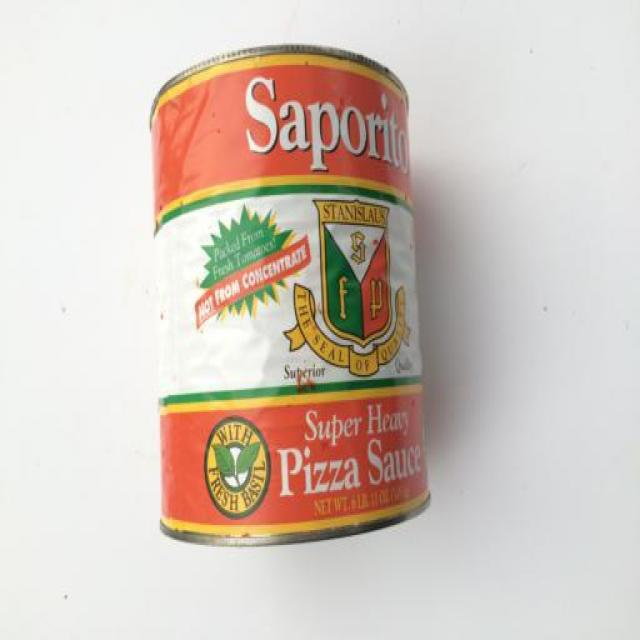metel: (131, 29, 457, 576)
